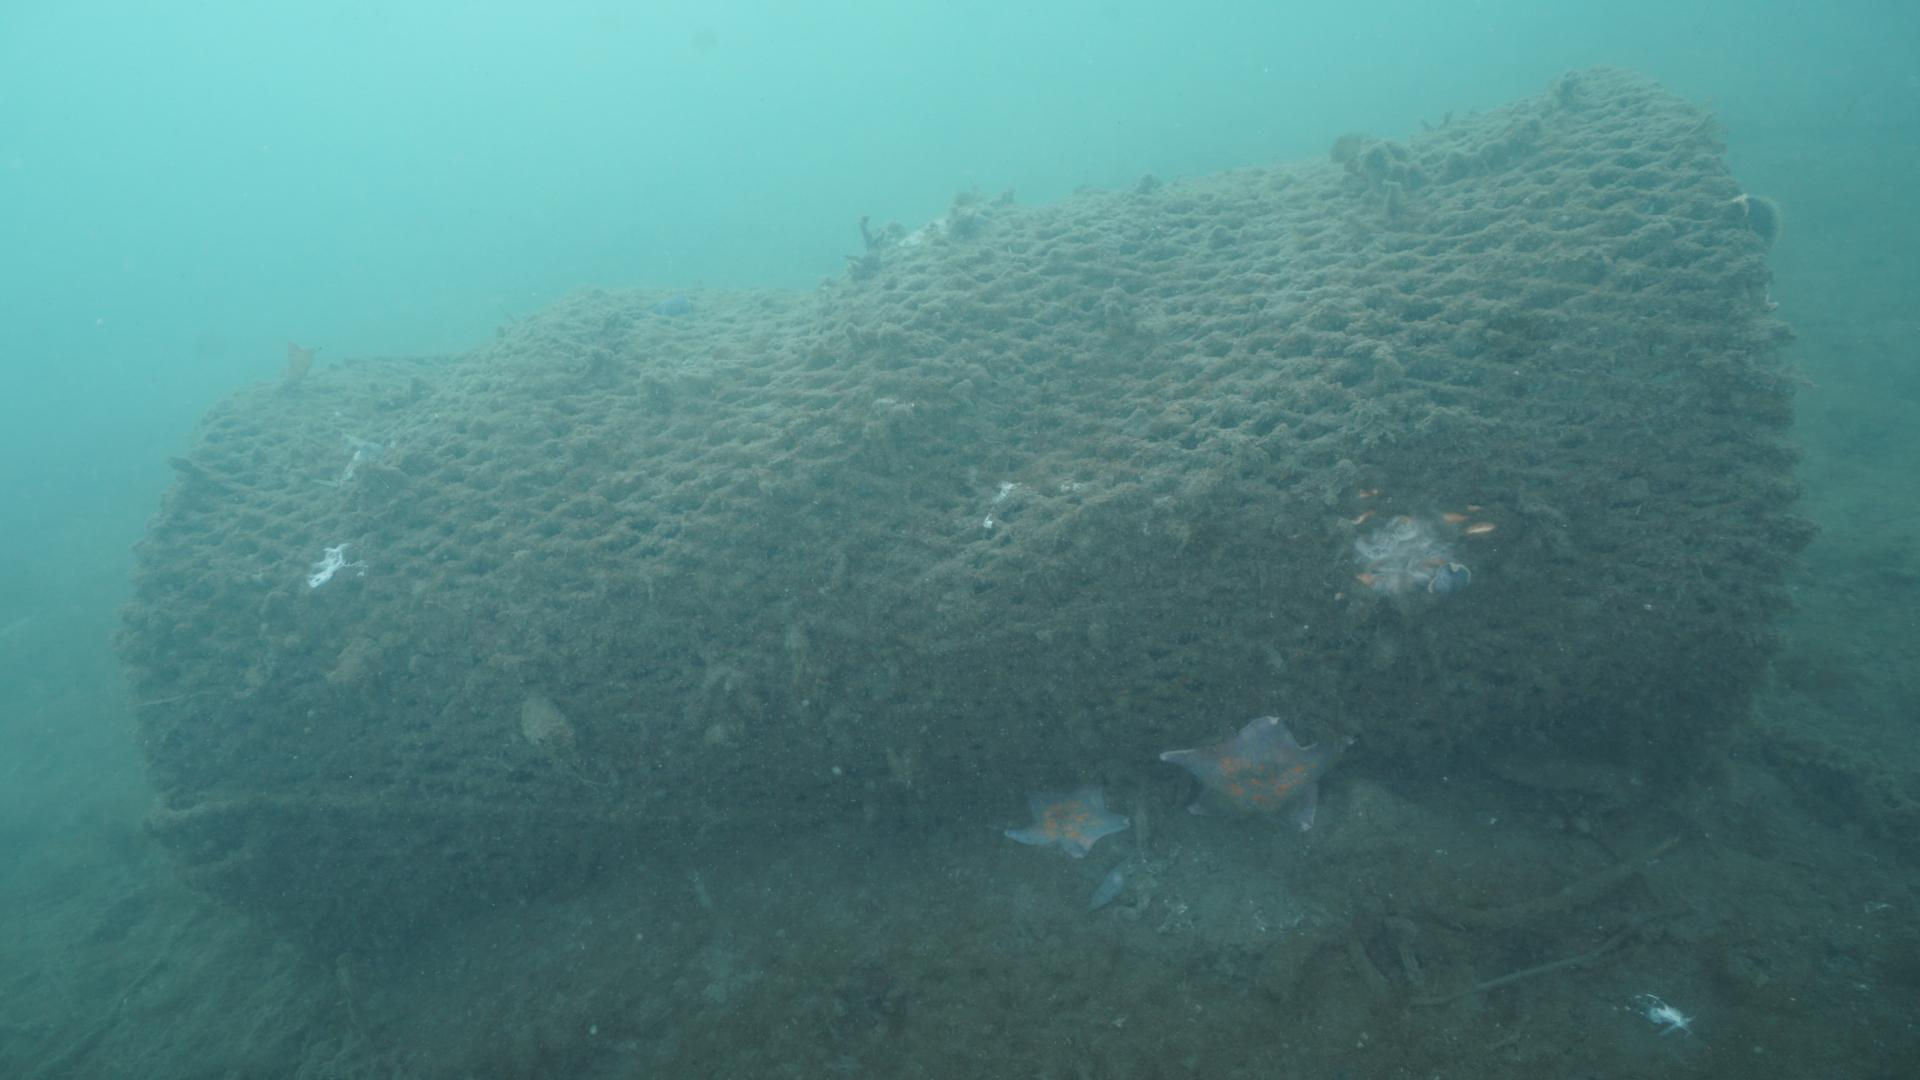spring fish trap: (116, 65, 1822, 971)
